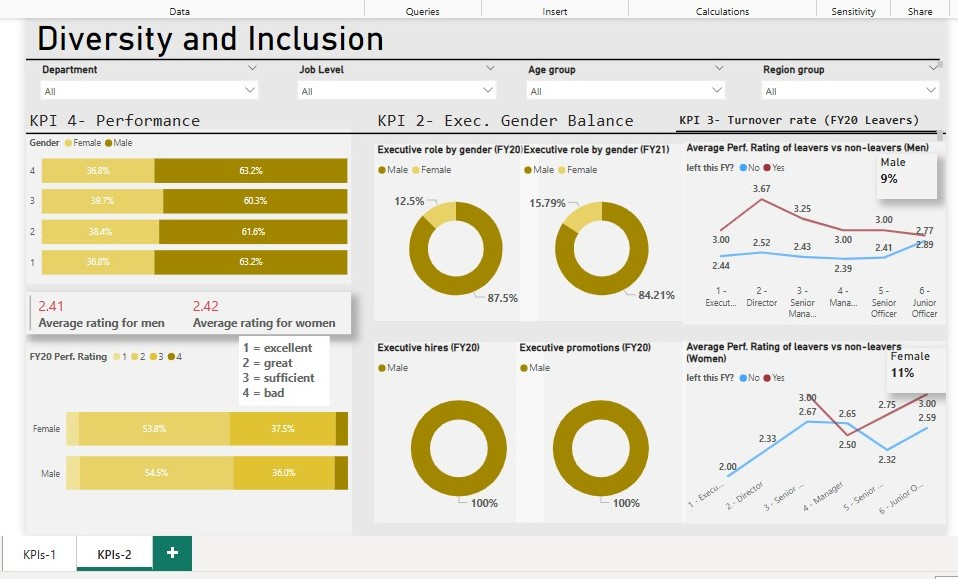

This screenshot's page, from the dashboard's own definition file:
{"tool":"powerbi","page":{"name":"KPIs-2","canvas":[1280,720],"ordinal":1},"visuals":[{"type":"lineChart","title":"Average Perf. Rating of leavers vs non-leavers (Men)","fields":{"Category":["Pharma Group AG.Job Level after FY20 promotions"],"Y":["Avg(Pharma Group AG.FY19 Performance Rating)"],"Series":["Pharma Group AG.FY20 leaver?"]},"box":[913.6,172.3,366.4,254.3],"z":0},{"type":"hundredPercentStackedBarChart","fields":{"Category":["Pharma Group AG.Gender"],"Y":["baseMeasures.total_employees"],"Series":["Pharma Group AG.FY20 Performance Rating"]},"box":[0,450.7,452.5,268.6],"z":1000},{"type":"textbox","title":"Diversity and Inclusion","box":[9.7,0,1270.4,73.7],"z":2000},{"type":"shape","box":[0,37.5,1270.4,40.3],"z":3000},{"type":"slicer","fields":{"Values":["Pharma Group AG.Last Department in FY20"]},"box":[9.7,58.4,323.9,63.9],"z":4000},{"type":"slicer","fields":{"Values":["Pharma Group AG.Job Level after FY20 promotions"]},"box":[366.9,58.4,297.5,63.9],"z":5000},{"type":"slicer","fields":{"Values":["Pharma Group AG.Age group"]},"box":[685.3,58.4,297.5,63.9],"z":6000},{"type":"slicer","fields":{"Values":["Pharma Group AG.Broad region group: nationality 1"]},"box":[1011.9,58.4,268.3,63.9],"z":7000},{"type":"textbox","title":"KPI 4- Performance","box":[0,128.5,348.7,32.1],"z":8000},{"type":"hundredPercentStackedBarChart","fields":{"Y":["baseMeasures.total_employees"],"Category":["Pharma Group AG.FY20 Performance Rating"],"Series":["Pharma Group AG.Gender"]},"box":[0,154.3,451.7,215.4],"z":9000},{"type":"multiRowCard","fields":{"Values":["baseMeasures.average_P_rating (men)","baseMeasures.average_P_rating (women)"]},"box":[0,380.7,451.5,59.3],"z":10000},{"type":"textbox","title":"KPI 2- Exec. Gender Balance","box":[483.2,128.5,402.2,38.2],"z":11000},{"type":"shape","box":[0,154.5,1280,12.2],"z":12000},{"type":"textbox","title":"KPI 3- Turnover rate (FY20 Leavers)","box":[903.5,130.5,376.5,45.2],"z":13000},{"type":"shape","box":[903.8,151.4,362.4,12.2],"z":14000},{"type":"textbox","box":[295.7,441.7,126.2,97.4],"z":15000},{"type":"donutChart","title":"Executive role by gender (FY20)","fields":{"Category":["Pharma Group AG.Gender"],"Y":["CountNonNull(Pharma Group AG.Employee ID)"]},"box":[483.6,175.7,227.6,246],"z":16000},{"type":"donutChart","title":"Executive role by gender (FY21)","fields":{"Category":["Pharma Group AG.Gender"],"Y":["CountNonNull(Pharma Group AG.Employee ID)"]},"box":[686,175.7,227.6,246],"z":17000},{"type":"donutChart","title":"Executive hires (FY20)","fields":{"Category":["Pharma Group AG.Gender"],"Y":["CountNonNull(Pharma Group AG.Employee ID)"]},"box":[483.6,450.1,235.9,251],"z":18000},{"type":"donutChart","title":"Executive promotions (FY20)","fields":{"Category":["Pharma Group AG.Gender"],"Y":["CountNonNull(Pharma Group AG.Employee ID)"]},"box":[681,450.1,235.9,251],"z":19000},{"type":"lineChart","title":"Average Perf. Rating of leavers vs non-leavers (Women)","fields":{"Category":["Pharma Group AG.Job Level after FY20 promotions"],"Y":["Avg(Pharma Group AG.FY19 Performance Rating)"],"Series":["Pharma Group AG.FY20 leaver?"]},"box":[913.6,448.4,366.4,254.3],"z":20000},{"type":"multiRowCard","title":"Male","fields":{"Values":["baseMeasures.turnover rate%"]},"box":[1183,189.1,83.7,61.9],"z":21000},{"type":"multiRowCard","title":"Female","fields":{"Values":["baseMeasures.turnover rate%"]},"box":[1196.3,458.5,83.7,61.9],"z":21001}]}

Visuals, with their boxes on the page's 1280x720 design canvas (x1, y1, x2, y2). These are canvas units, not pixel positions in the 958x579 screenshot, which may show the page scaled, cropped or inside an application window:
"Average Perf. Rating of leavers vs non-leavers (Men)" lineChart: (left=914, top=172, right=1280, bottom=427)
hundredPercentStackedBarChart - Pharma Group AG.Gender x baseMeasures.total_employees: (left=0, top=451, right=452, bottom=719)
"Diversity and Inclusion" textbox: (left=10, top=0, right=1280, bottom=74)
shape: (left=0, top=38, right=1270, bottom=78)
slicer - Pharma Group AG.Last Department in FY20: (left=10, top=58, right=334, bottom=122)
slicer - Pharma Group AG.Job Level after FY20 promotions: (left=367, top=58, right=664, bottom=122)
slicer - Pharma Group AG.Age group: (left=685, top=58, right=983, bottom=122)
slicer - Pharma Group AG.Broad region group: nationality 1: (left=1012, top=58, right=1280, bottom=122)
"KPI 4- Performance" textbox: (left=0, top=128, right=349, bottom=161)
hundredPercentStackedBarChart - baseMeasures.total_employees x Pharma Group AG.FY20 Performance Rating: (left=0, top=154, right=452, bottom=370)
multiRowCard - baseMeasures.average_P_rating (men) x baseMeasures.average_P_rating (women): (left=0, top=381, right=452, bottom=440)
"KPI 2- Exec. Gender Balance" textbox: (left=483, top=128, right=885, bottom=167)
shape: (left=0, top=154, right=1280, bottom=167)
"KPI 3- Turnover rate (FY20 Leavers)" textbox: (left=904, top=130, right=1280, bottom=176)
shape: (left=904, top=151, right=1266, bottom=164)
textbox: (left=296, top=442, right=422, bottom=539)
"Executive role by gender (FY20)" donutChart: (left=484, top=176, right=711, bottom=422)
"Executive role by gender (FY21)" donutChart: (left=686, top=176, right=914, bottom=422)
"Executive hires (FY20)" donutChart: (left=484, top=450, right=720, bottom=701)
"Executive promotions (FY20)" donutChart: (left=681, top=450, right=917, bottom=701)
"Average Perf. Rating of leavers vs non-leavers (Women)" lineChart: (left=914, top=448, right=1280, bottom=703)
"Male" multiRowCard: (left=1183, top=189, right=1267, bottom=251)
"Female" multiRowCard: (left=1196, top=458, right=1280, bottom=520)
